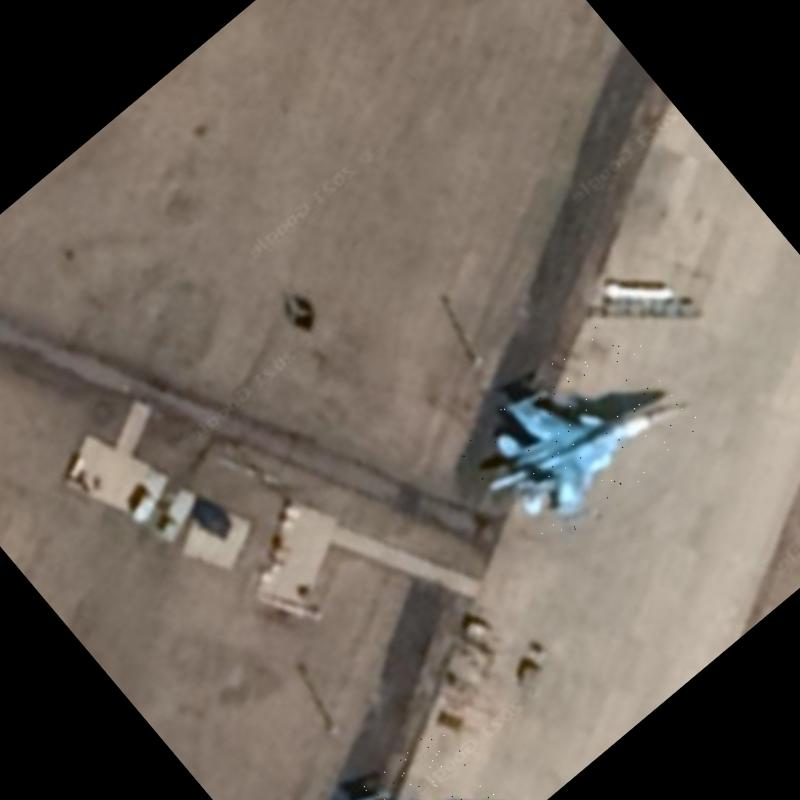A19: (452, 307, 711, 558), (285, 719, 522, 800)
